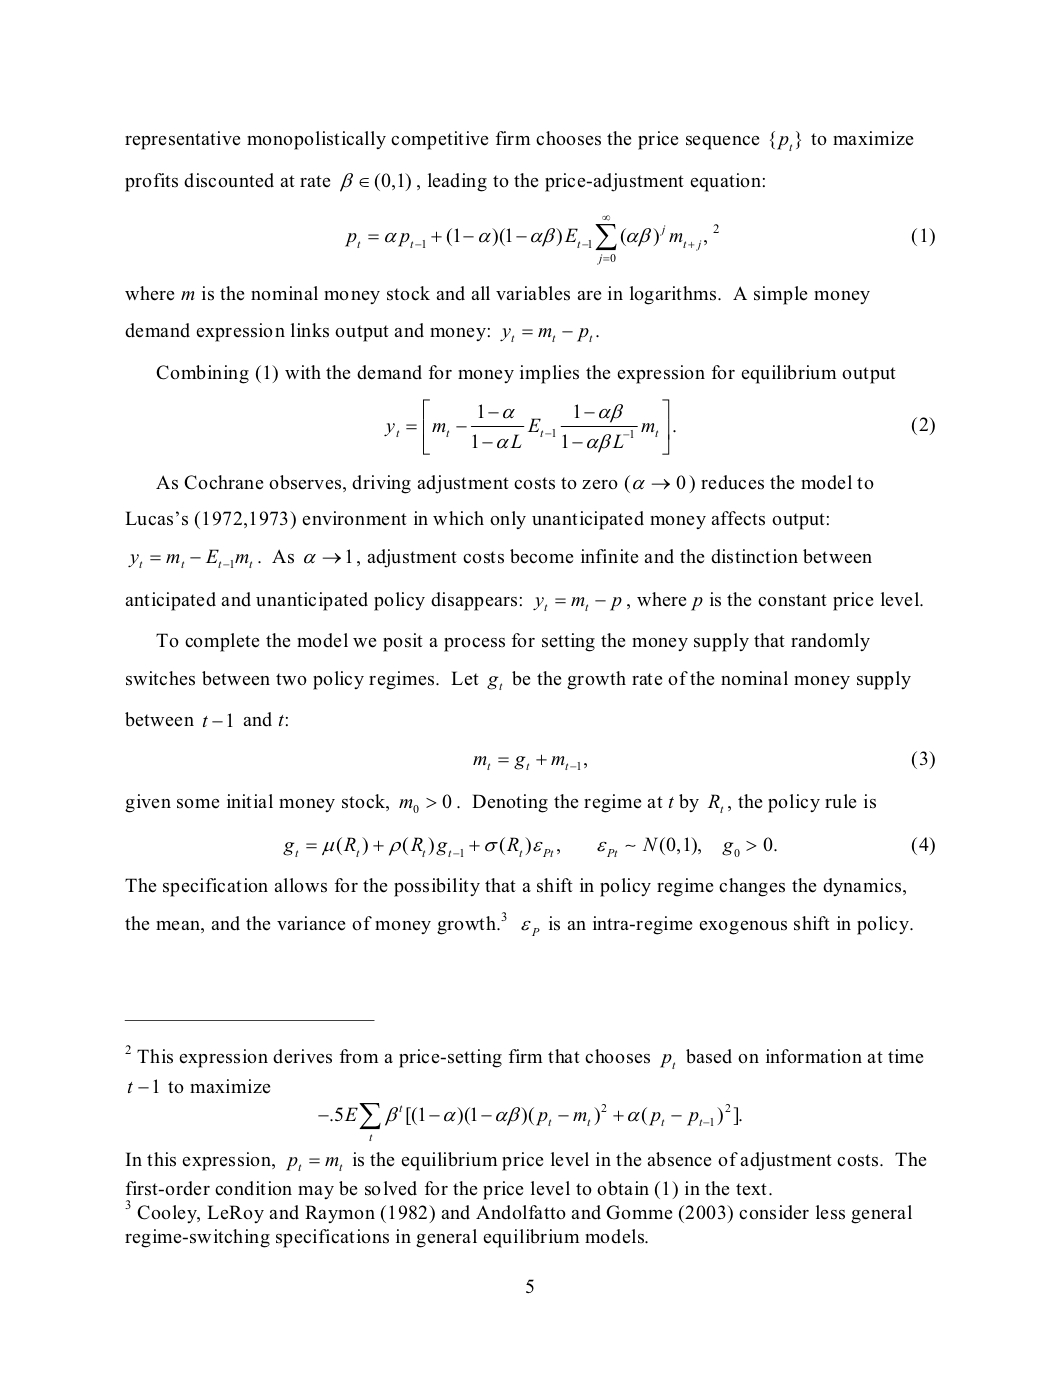formula: (385, 398, 934, 455), (345, 215, 934, 264), (318, 1103, 741, 1140), (283, 836, 934, 857), (473, 750, 934, 770)
